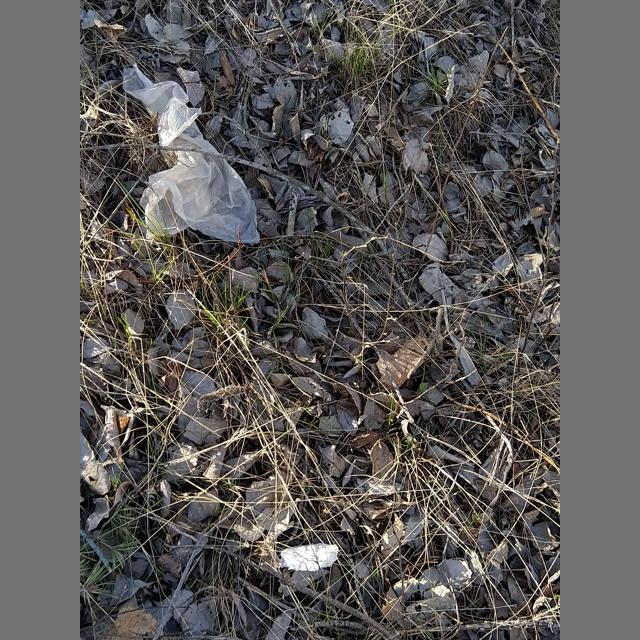litter: (122, 62, 259, 243)
